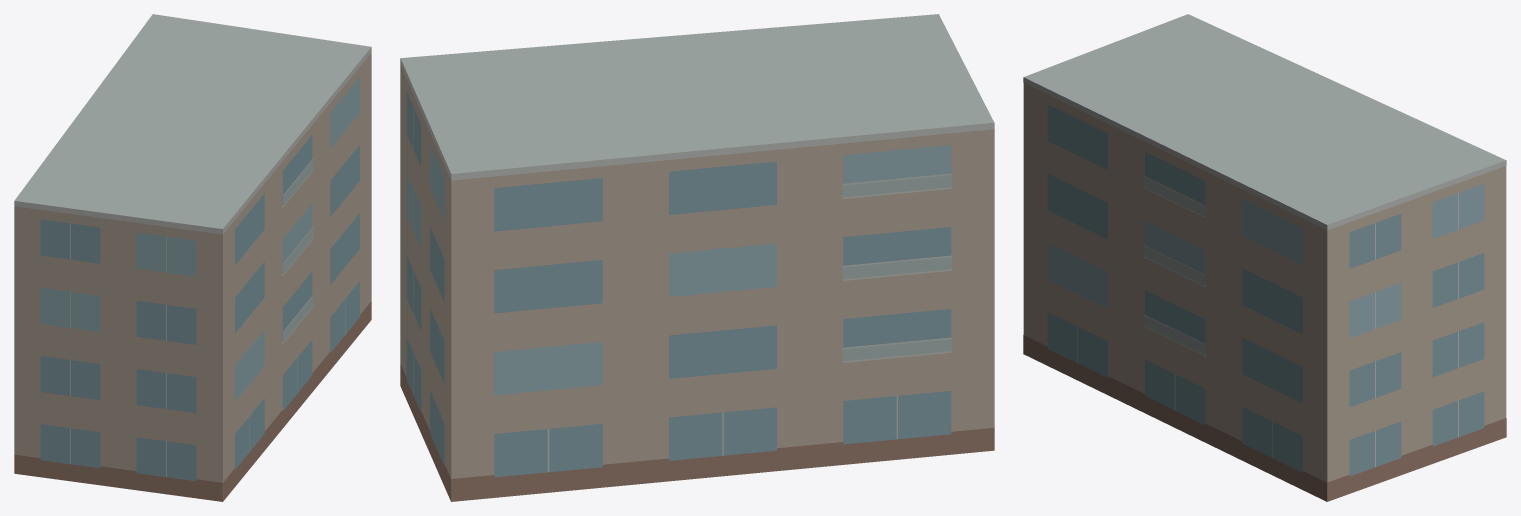
File: survey-upis-32590295.glb
3 views of the same model, side by side, from view 1: azimuth 30°, elevation 25°; view 2: azimuth 150°, elevation 25°; view 3: azimuth 270°, elevation 25° (orthographic). The views are drawn at different scales.
Visible parts, largest first — view 1: survey-upis-32590295.tmp; view 2: survey-upis-32590295.tmp; view 3: survey-upis-32590295.tmp.
Boxes of the visible parts, x1,y1,x2,y2 form: survey-upis-32590295.tmp: [14, 14, 371, 501]; survey-upis-32590295.tmp: [400, 14, 994, 501]; survey-upis-32590295.tmp: [1023, 14, 1506, 501].
Bounding box in the file's own units: 20.17 × 12.34 × 19.51.
